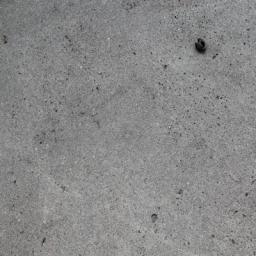FOD: (191, 31, 212, 60)
